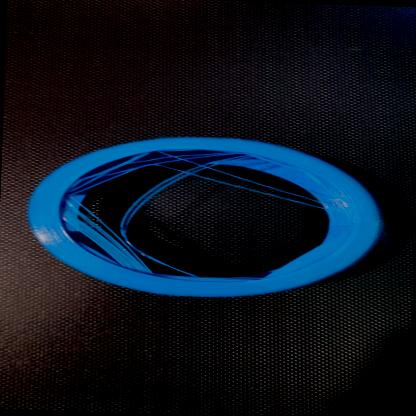fail: (54, 148, 262, 278)
